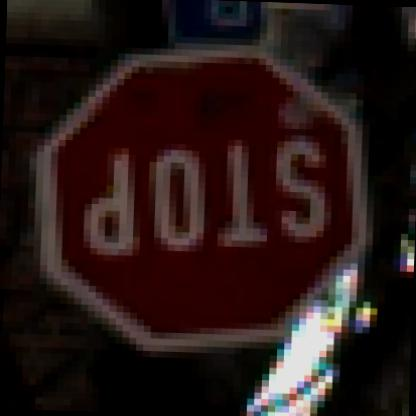stop: (36, 42, 376, 352)
